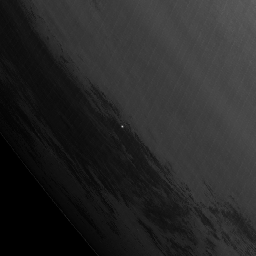Target: (119, 124, 125, 130)
